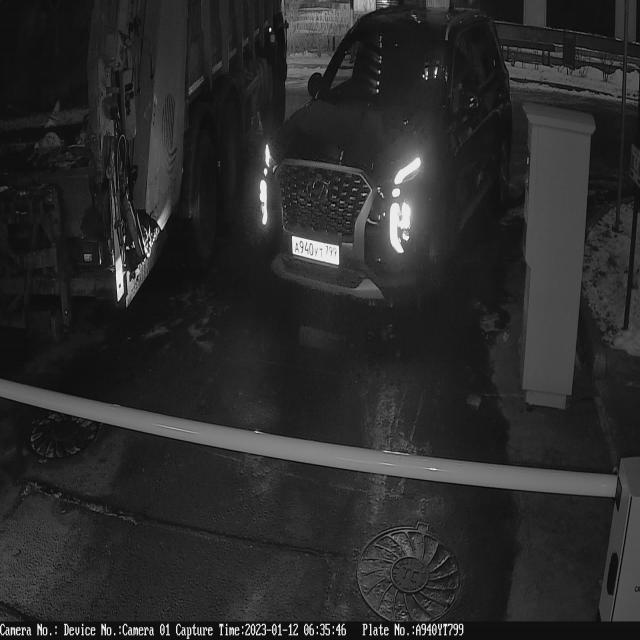car-plate-numbers: (288, 232, 347, 274)
